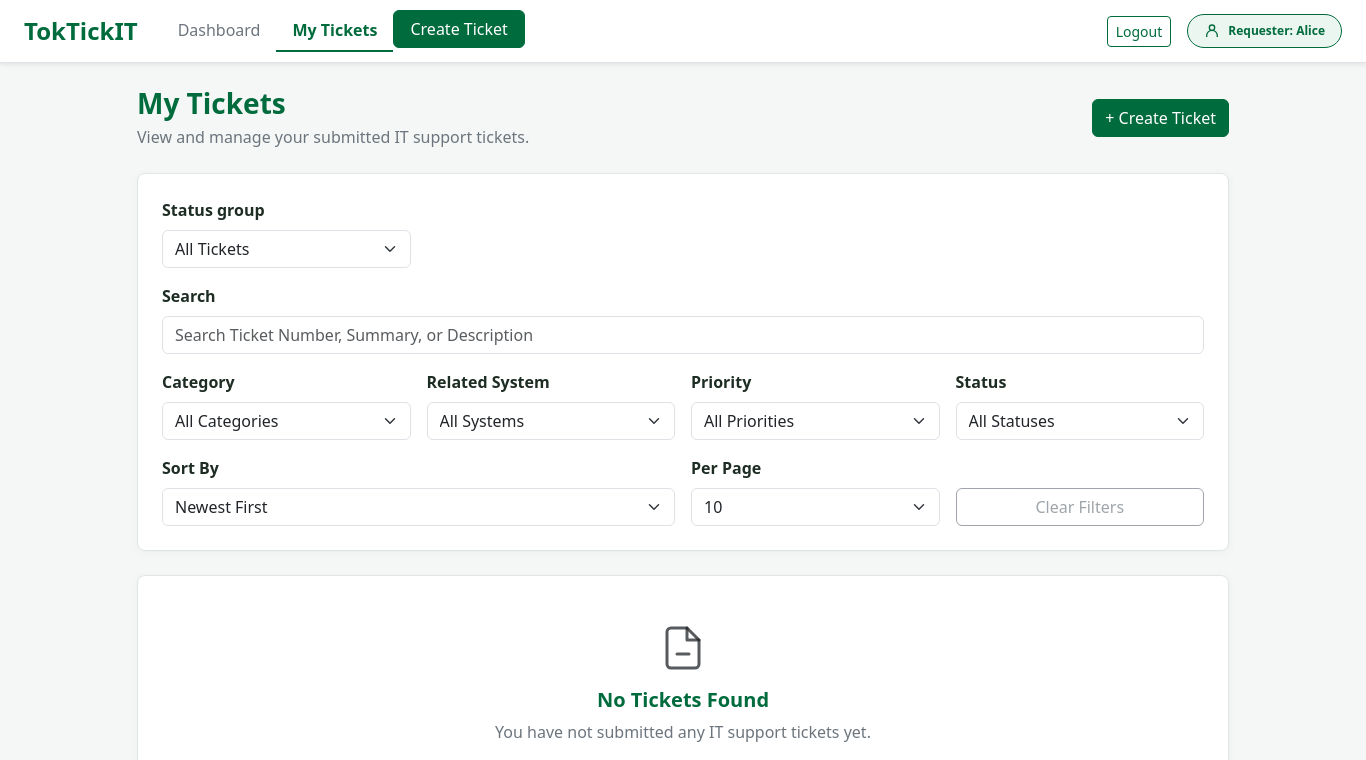
Test: Authenticated shell replaces selector › logout failure remains visible
Click the button "Logout" at (1139, 31), box [1107, 16, 1171, 46]
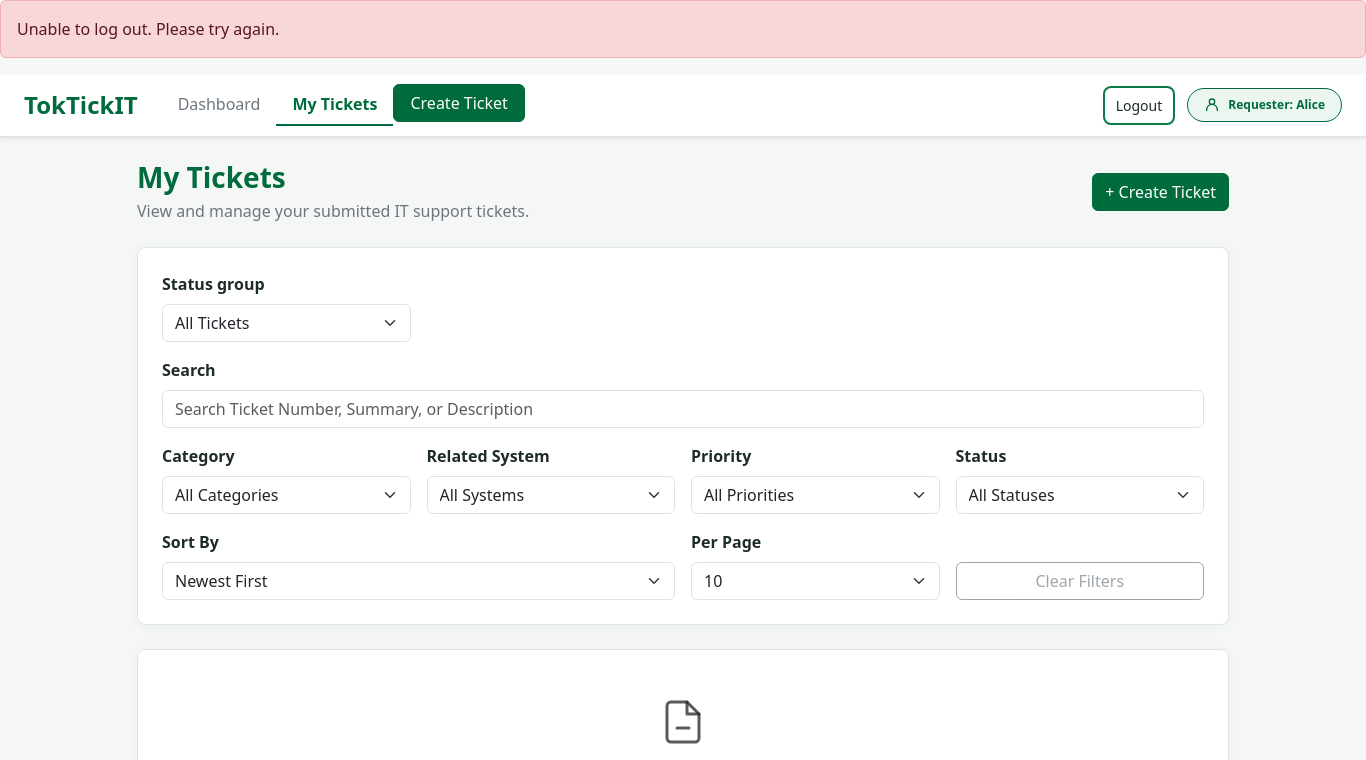
Now the message "Unable to log out. Please try again." is shown, box [0, 0, 1365, 58]
